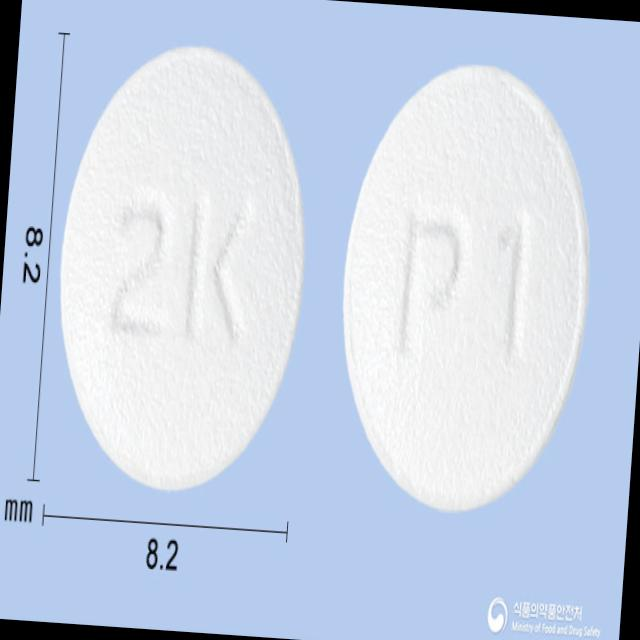Letroxin: (46, 34, 322, 503), (327, 61, 603, 522)
